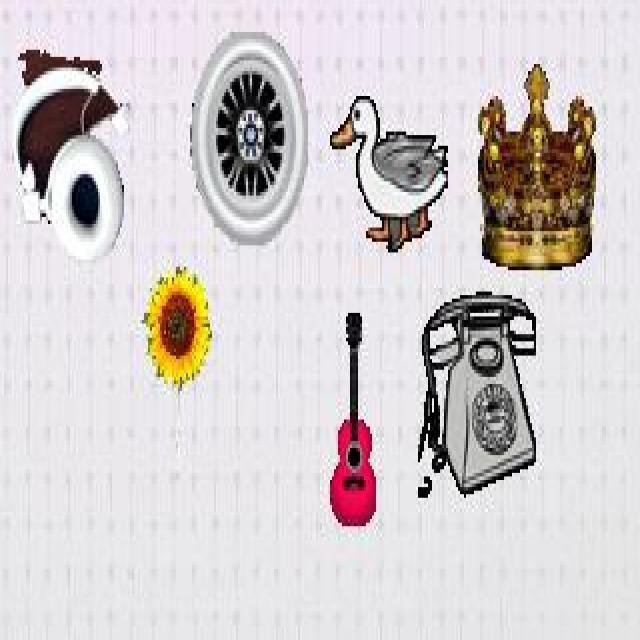Other Objects: (10, 46, 131, 263), (418, 287, 538, 500), (476, 61, 596, 272), (329, 97, 448, 254)
